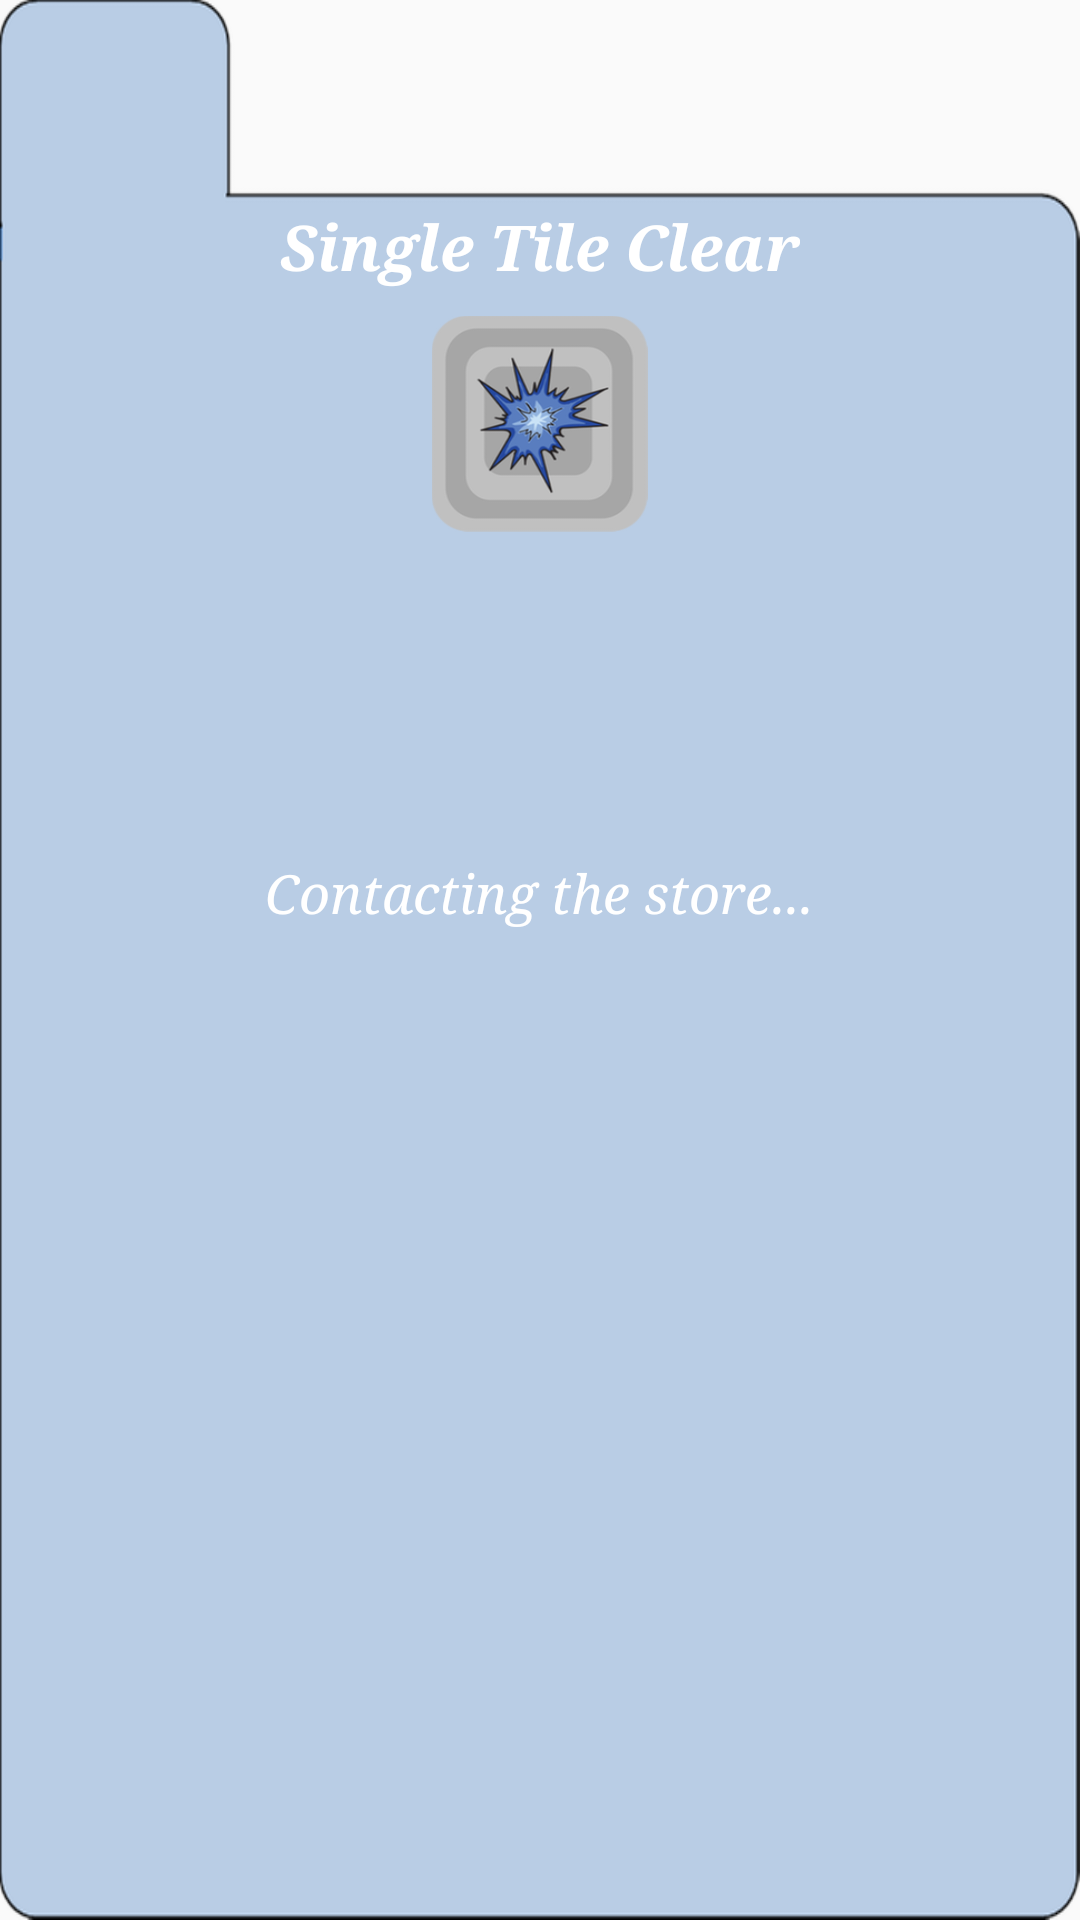

Icons on this 1080x1920 Android screen, each with its box as (x1, y1, x2, y2):
tile power single: (432, 316, 648, 531)
